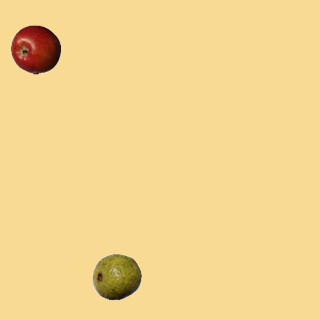Apple Braeburn: (10, 24, 60, 74)
Guava: (91, 251, 141, 301)
